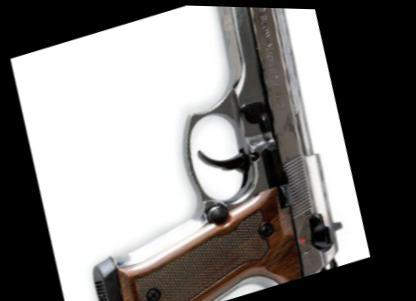pistol: (19, 1, 390, 299)
